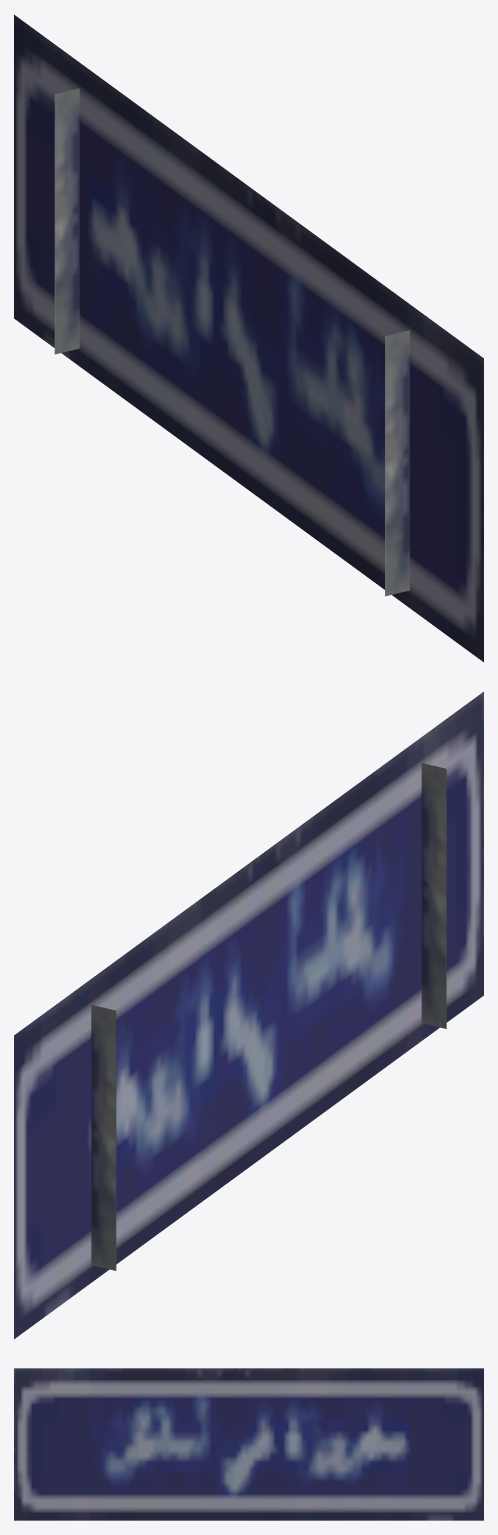
The model's file is M7_StreetSign01.glb.
3 views of the same model, one above another, from view 1: azimuth 30°, elevation 25°; view 2: azimuth 150°, elevation 25°; view 3: azimuth 270°, elevation 25° (orthographic). The views are drawn at different scales.
Parts seen in each view (by area): view 1: M7_STREETSIGN01; view 2: M7_STREETSIGN01; view 3: M7_STREETSIGN01.
Part boxes in pixels (x1,y1,x2,y2): M7_STREETSIGN01: (14, 14, 483, 662); M7_STREETSIGN01: (14, 691, 483, 1339); M7_STREETSIGN01: (14, 1368, 483, 1520).
Bounding box in the file's own units: 0.053 × 0.5 × 1.4.
1 material, 1 textured.
